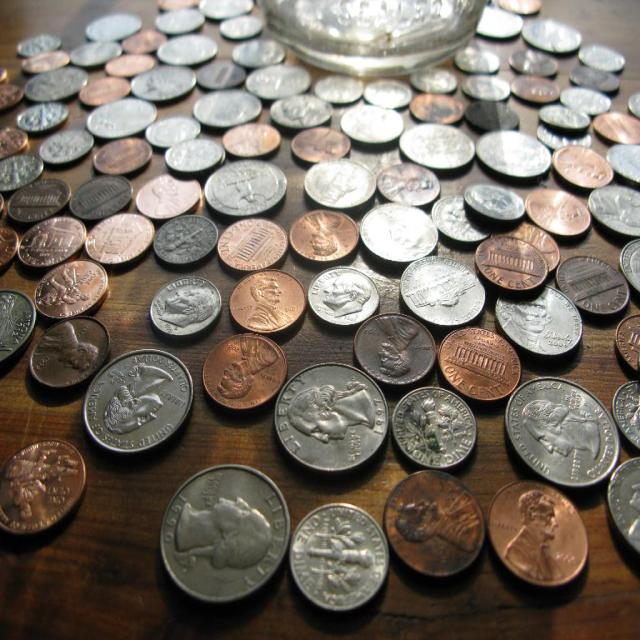Coin: (0, 0, 640, 613), (76, 350, 199, 464)
